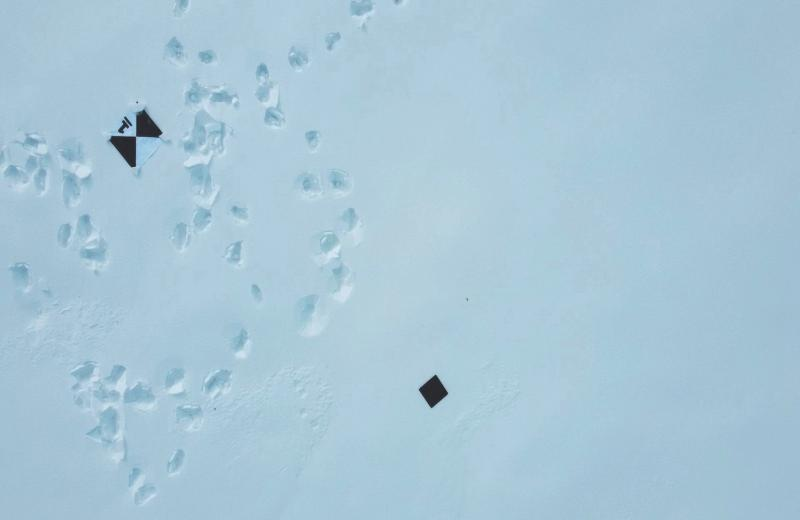Square: (419, 374, 450, 410)
